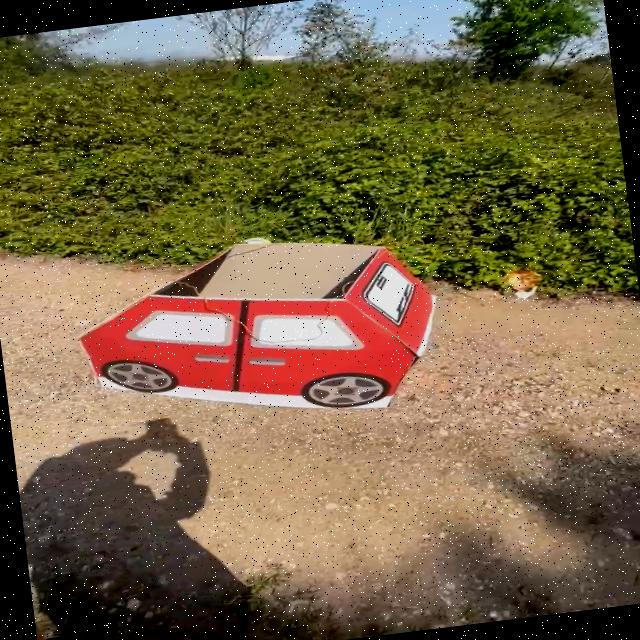red_car: (45, 209, 460, 460)
